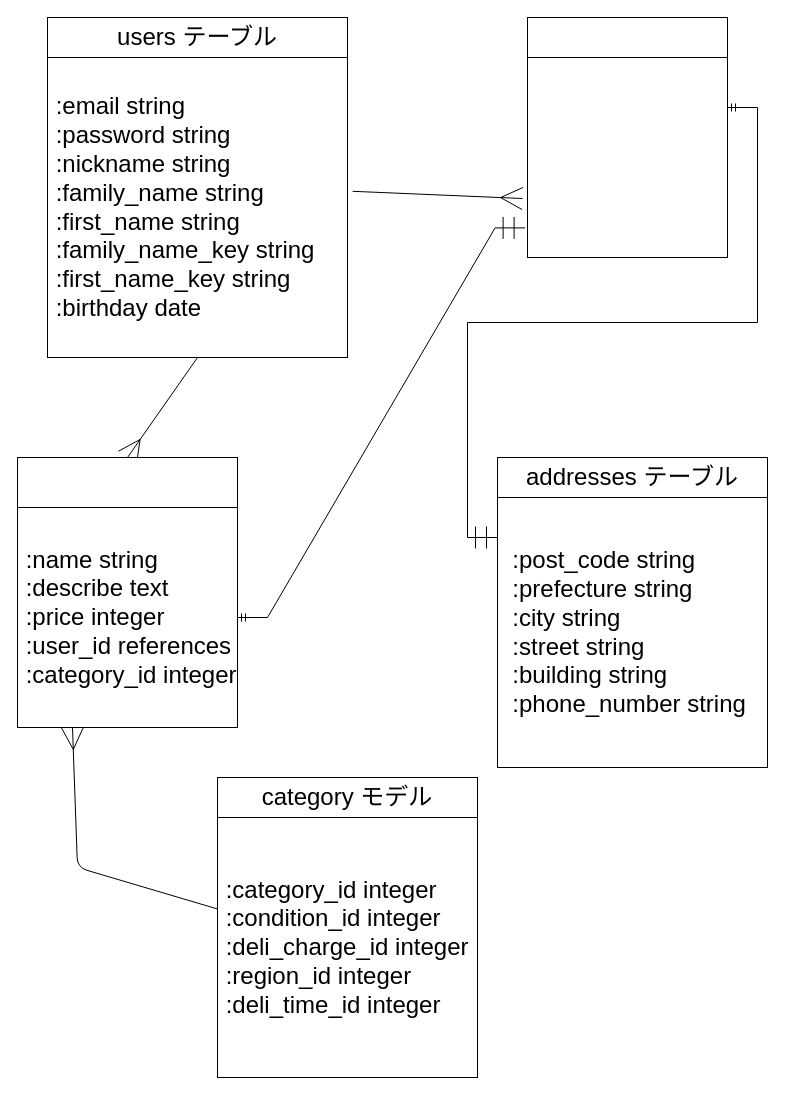
The diagram is 797 pixels wide and 1095 high, and some of its shapes have lost their labels. The centre of each missing label's shape, as x and y in pixels:
":user references :item references" goes at [627,157].
"items テーブル" goes at [127,482].
"order テーブル" goes at [627,37].
